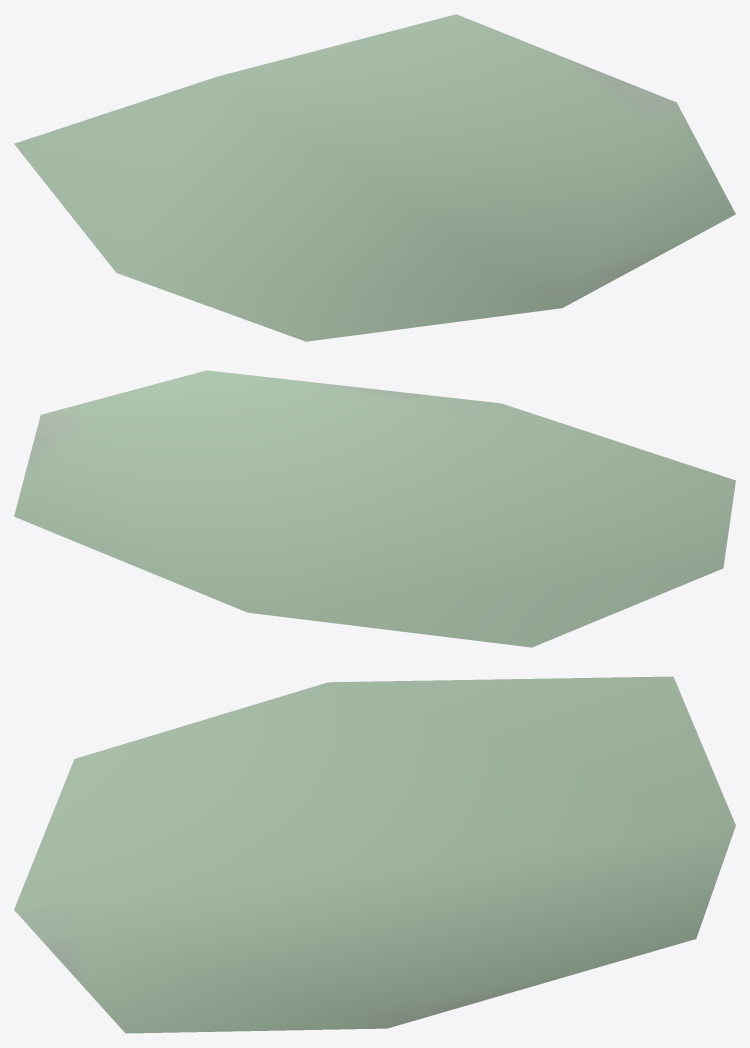
Rendered from TROLLHOLE02_HOLECAP66.fbx.
3 views of the same model, one above another, from view 1: azimuth 30°, elevation 25°; view 2: azimuth 150°, elevation 25°; view 3: azimuth 270°, elevation 25° (orthographic). The views are drawn at different scales.
Visible parts, largest first — view 1: TROLLHOLE02_HOLECAP66; view 2: TROLLHOLE02_HOLECAP66; view 3: TROLLHOLE02_HOLECAP66.
Part boxes in pixels (x1,y1,x2,y2): TROLLHOLE02_HOLECAP66: (14,14,735,341); TROLLHOLE02_HOLECAP66: (14,370,735,647); TROLLHOLE02_HOLECAP66: (14,676,735,1033).
Size of the model in its own units: 23608 by 2194 by 19987.
Materials: 1 (1 with a texture image).
